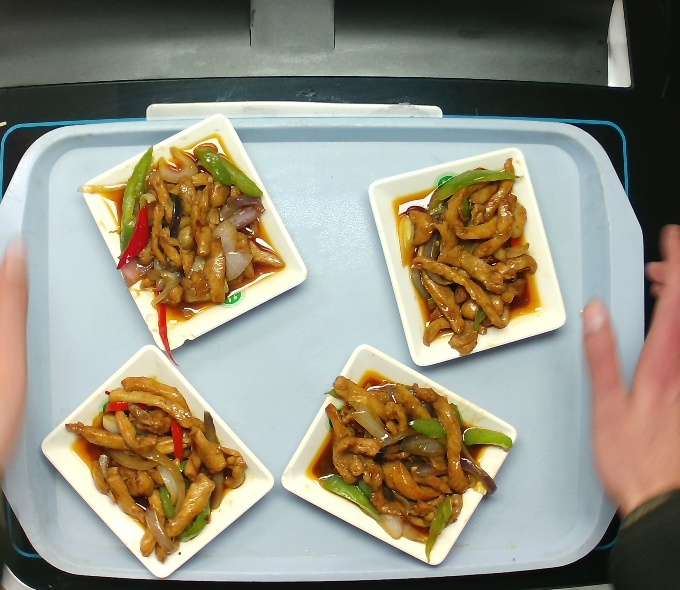wcq-YangCongChaoJiLiu: (70, 124, 294, 377), (298, 361, 518, 570), (56, 366, 258, 568), (383, 153, 549, 363)
